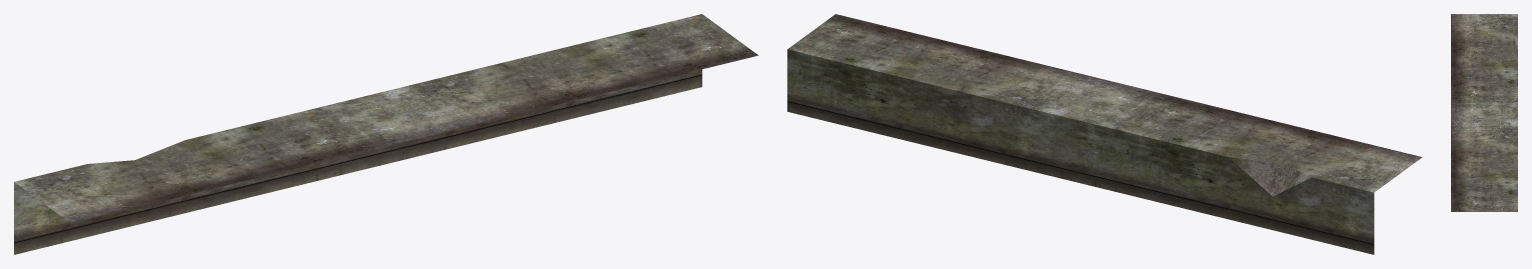
Rendered from Trottoir_13.fbx.
3 views of the same model, side by side, from view 1: azimuth 30°, elevation 25°; view 2: azimuth 150°, elevation 25°; view 3: azimuth 270°, elevation 25° (orthographic). The views are drawn at different scales.
Parts seen in each view (by area): view 1: Trottoir_13; view 2: Trottoir_13; view 3: Trottoir_13.
Part boxes in pixels (box(x1,y1,x2,y2)): Trottoir_13: box(14, 14, 758, 254); Trottoir_13: box(787, 14, 1422, 254); Trottoir_13: box(1451, 14, 1517, 211).
Size of the model in its own units: 700 by 71.06 by 100.
